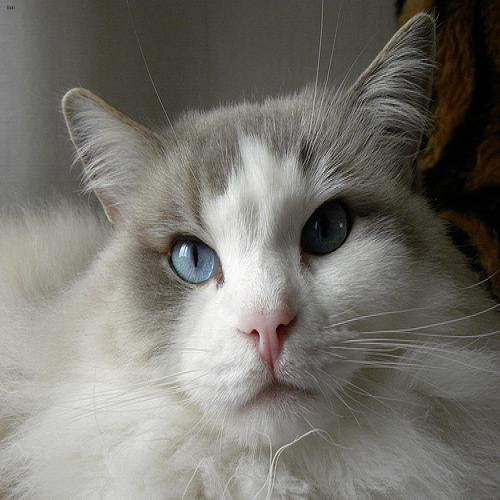ragdoll: (48, 11, 469, 466)
